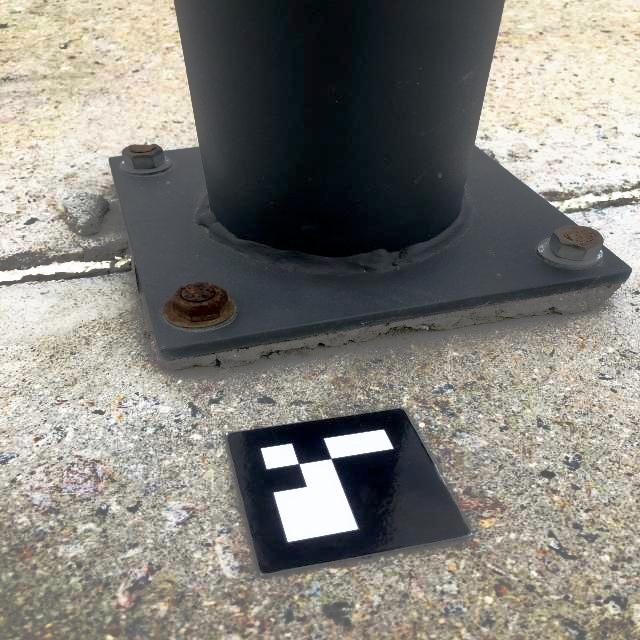Corrosion: (162, 281, 235, 328), (557, 225, 602, 247), (125, 144, 162, 156)
